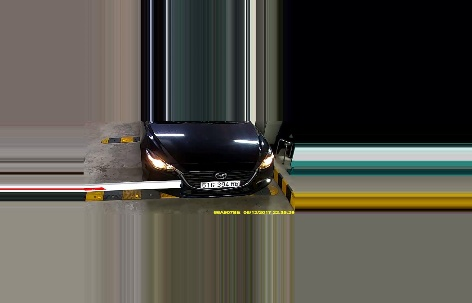plate: (197, 179, 242, 188)
